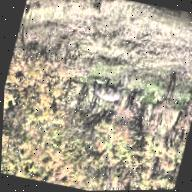boar: (80, 65, 149, 120)
